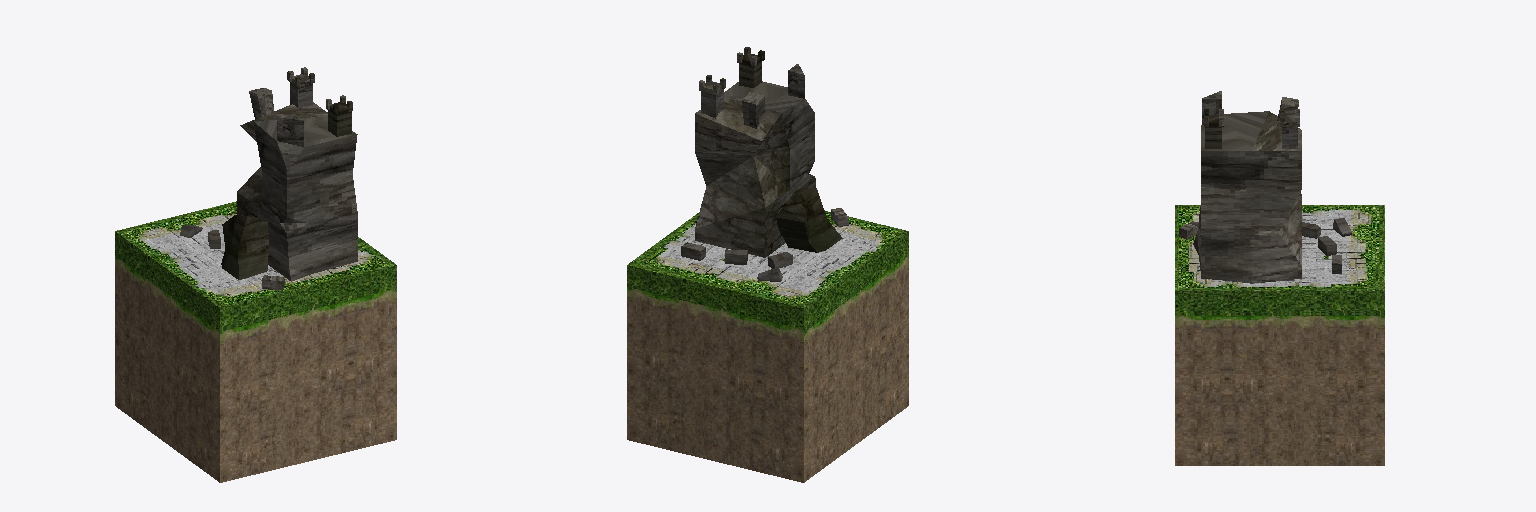
The picture shows the model from 3 angles: view 1: azimuth 30°, elevation 25°; view 2: azimuth 150°, elevation 25°; view 3: azimuth 270°, elevation 25°; orthographic projection.
Visible parts, largest first — view 1: group pasted__polySurface107 polySurface1; view 2: group pasted__polySurface107 polySurface1; view 3: group pasted__polySurface107 polySurface1.
Part boxes in pixels (left/top/right/bottom): group pasted__polySurface107 polySurface1: left=115, top=67, right=396, bottom=482; group pasted__polySurface107 polySurface1: left=627, top=47, right=908, bottom=482; group pasted__polySurface107 polySurface1: left=1175, top=91, right=1384, bottom=465.
Size of the model in its own units: 9.36 by 16.88 by 9.66.
Materials: 1 (1 with a texture image).